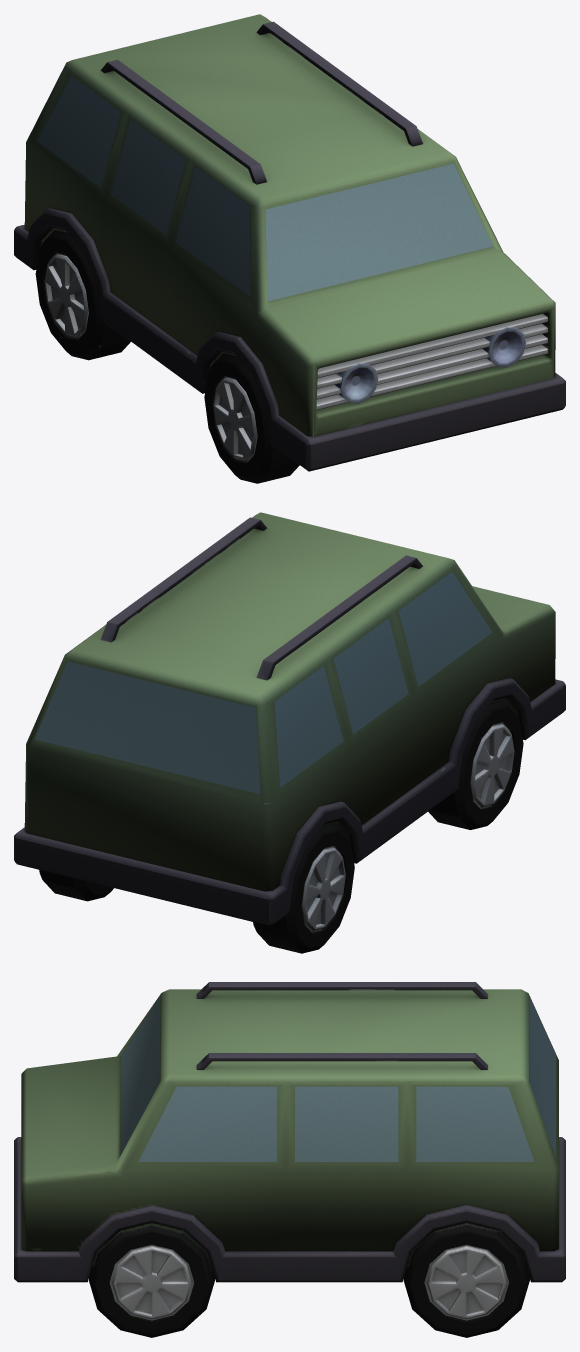
Rendered from car.glb.
3 views of the same model, one above another, from view 1: azimuth 30°, elevation 25°; view 2: azimuth 150°, elevation 25°; view 3: azimuth 270°, elevation 25° (orthographic). The views are drawn at different scales.
Parts seen in each view (by area): view 1: Box359; view 2: Box359; view 3: Box359.
Part boxes in pixels (box(x1,y1,x2,y2)): Box359: box(14, 14, 565, 483); Box359: box(14, 512, 565, 953); Box359: box(14, 982, 565, 1337).
Size of the model in its own units: 0.7961 by 0.8194 by 1.57.
2 materials, 2 textured.
